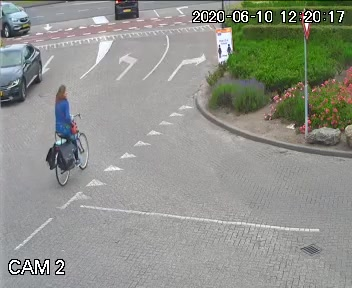car: (0, 43, 48, 100), (0, 5, 36, 37), (101, 0, 142, 19)
